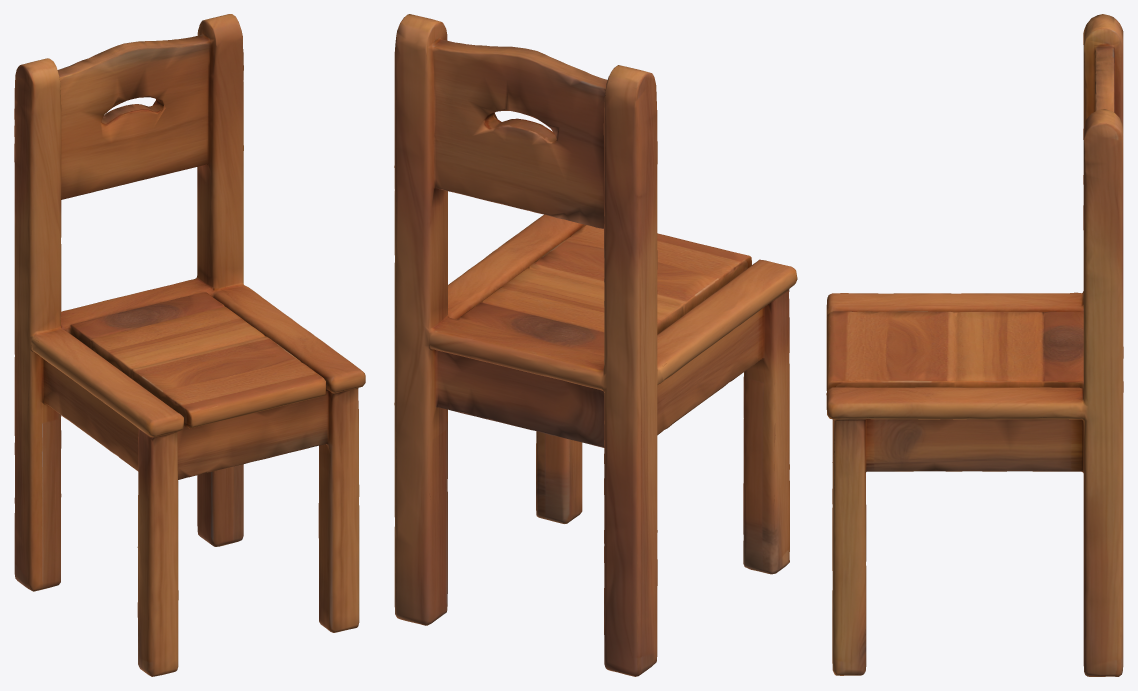
File: Meshy_AI_SCHOOL_WOOD_Chair_0105065908_texture.fbx
3 renders of one model, left to right at view 1: azimuth 30°, elevation 25°; view 2: azimuth 150°, elevation 25°; view 3: azimuth 270°, elevation 25°, orthographic. The views are drawn at different scales.
Visible parts, largest first — view 1: Mesh_0; view 2: Mesh_0; view 3: Mesh_0.
Part boxes in pixels (x1=…): Mesh_0: x1=14, y1=14, x2=365, y2=676; Mesh_0: x1=394, y1=14, x2=797, y2=676; Mesh_0: x1=826, y1=14, x2=1123, y2=676.
Size of the model in its own units: 83.41 by 192 by 92.89.
Materials: 1 (1 with a texture image).
